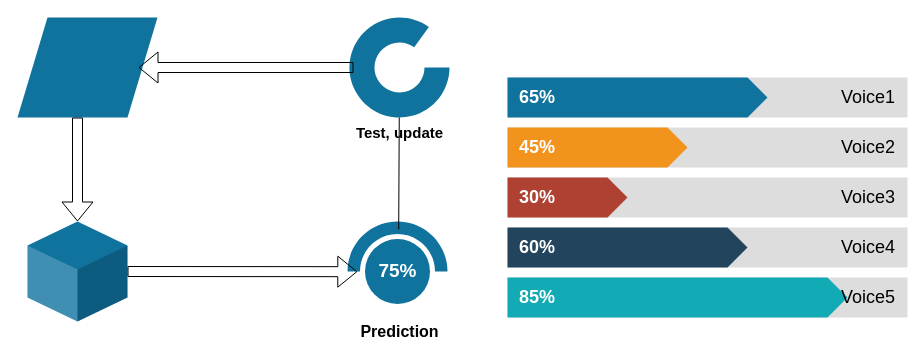
The diagram is 924 pixels wide and 364 high, and some of its shapes have lost their labels. The box of each missing label's shape, as (x1, y1, x2, y2) in pixels:
Model: (27, 221, 127, 321)
Trained Data: (17, 17, 157, 117)
